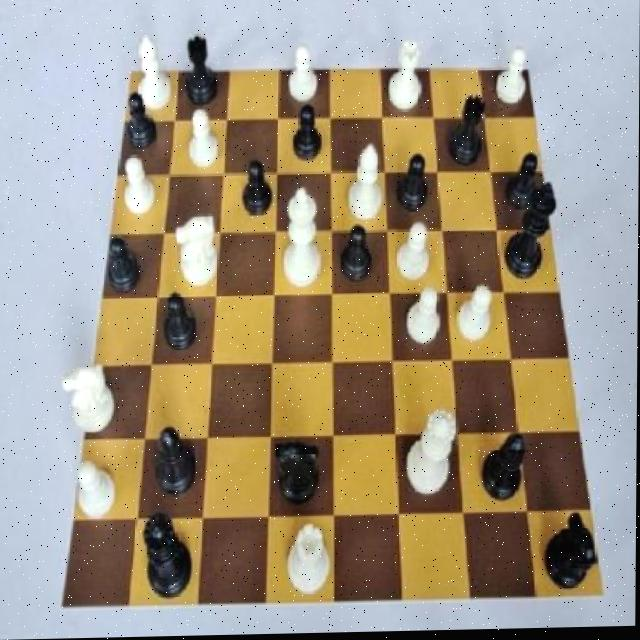bishop: (472, 426, 540, 519), (146, 412, 201, 504)
black-bishop: (496, 179, 564, 287)
black-king: (534, 509, 606, 600), (268, 421, 327, 517)
black-knight: (327, 223, 380, 299), (388, 142, 438, 220), (102, 220, 148, 303), (156, 284, 203, 362), (235, 152, 278, 233), (499, 149, 547, 218), (284, 98, 327, 173), (117, 85, 161, 153)
black-pawn: (133, 496, 199, 607)
black-queen: (176, 25, 223, 114), (443, 91, 490, 176)
black-rook: (125, 29, 177, 124), (339, 136, 388, 227)
white-bishop: (271, 176, 333, 298)
white-king: (58, 351, 122, 443), (172, 195, 224, 296)
white-knight: (71, 444, 124, 535), (450, 277, 501, 357), (113, 145, 161, 228), (278, 34, 326, 113), (390, 216, 437, 288), (181, 101, 224, 177), (402, 282, 449, 351), (492, 43, 536, 114)
white-pawn: (399, 401, 464, 507)
white-queen: (280, 519, 335, 603), (384, 34, 430, 122)
